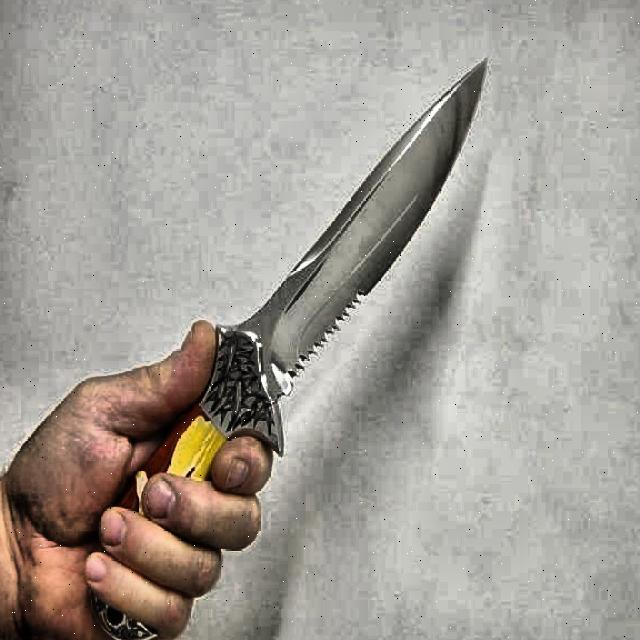knife: (91, 59, 485, 640)
